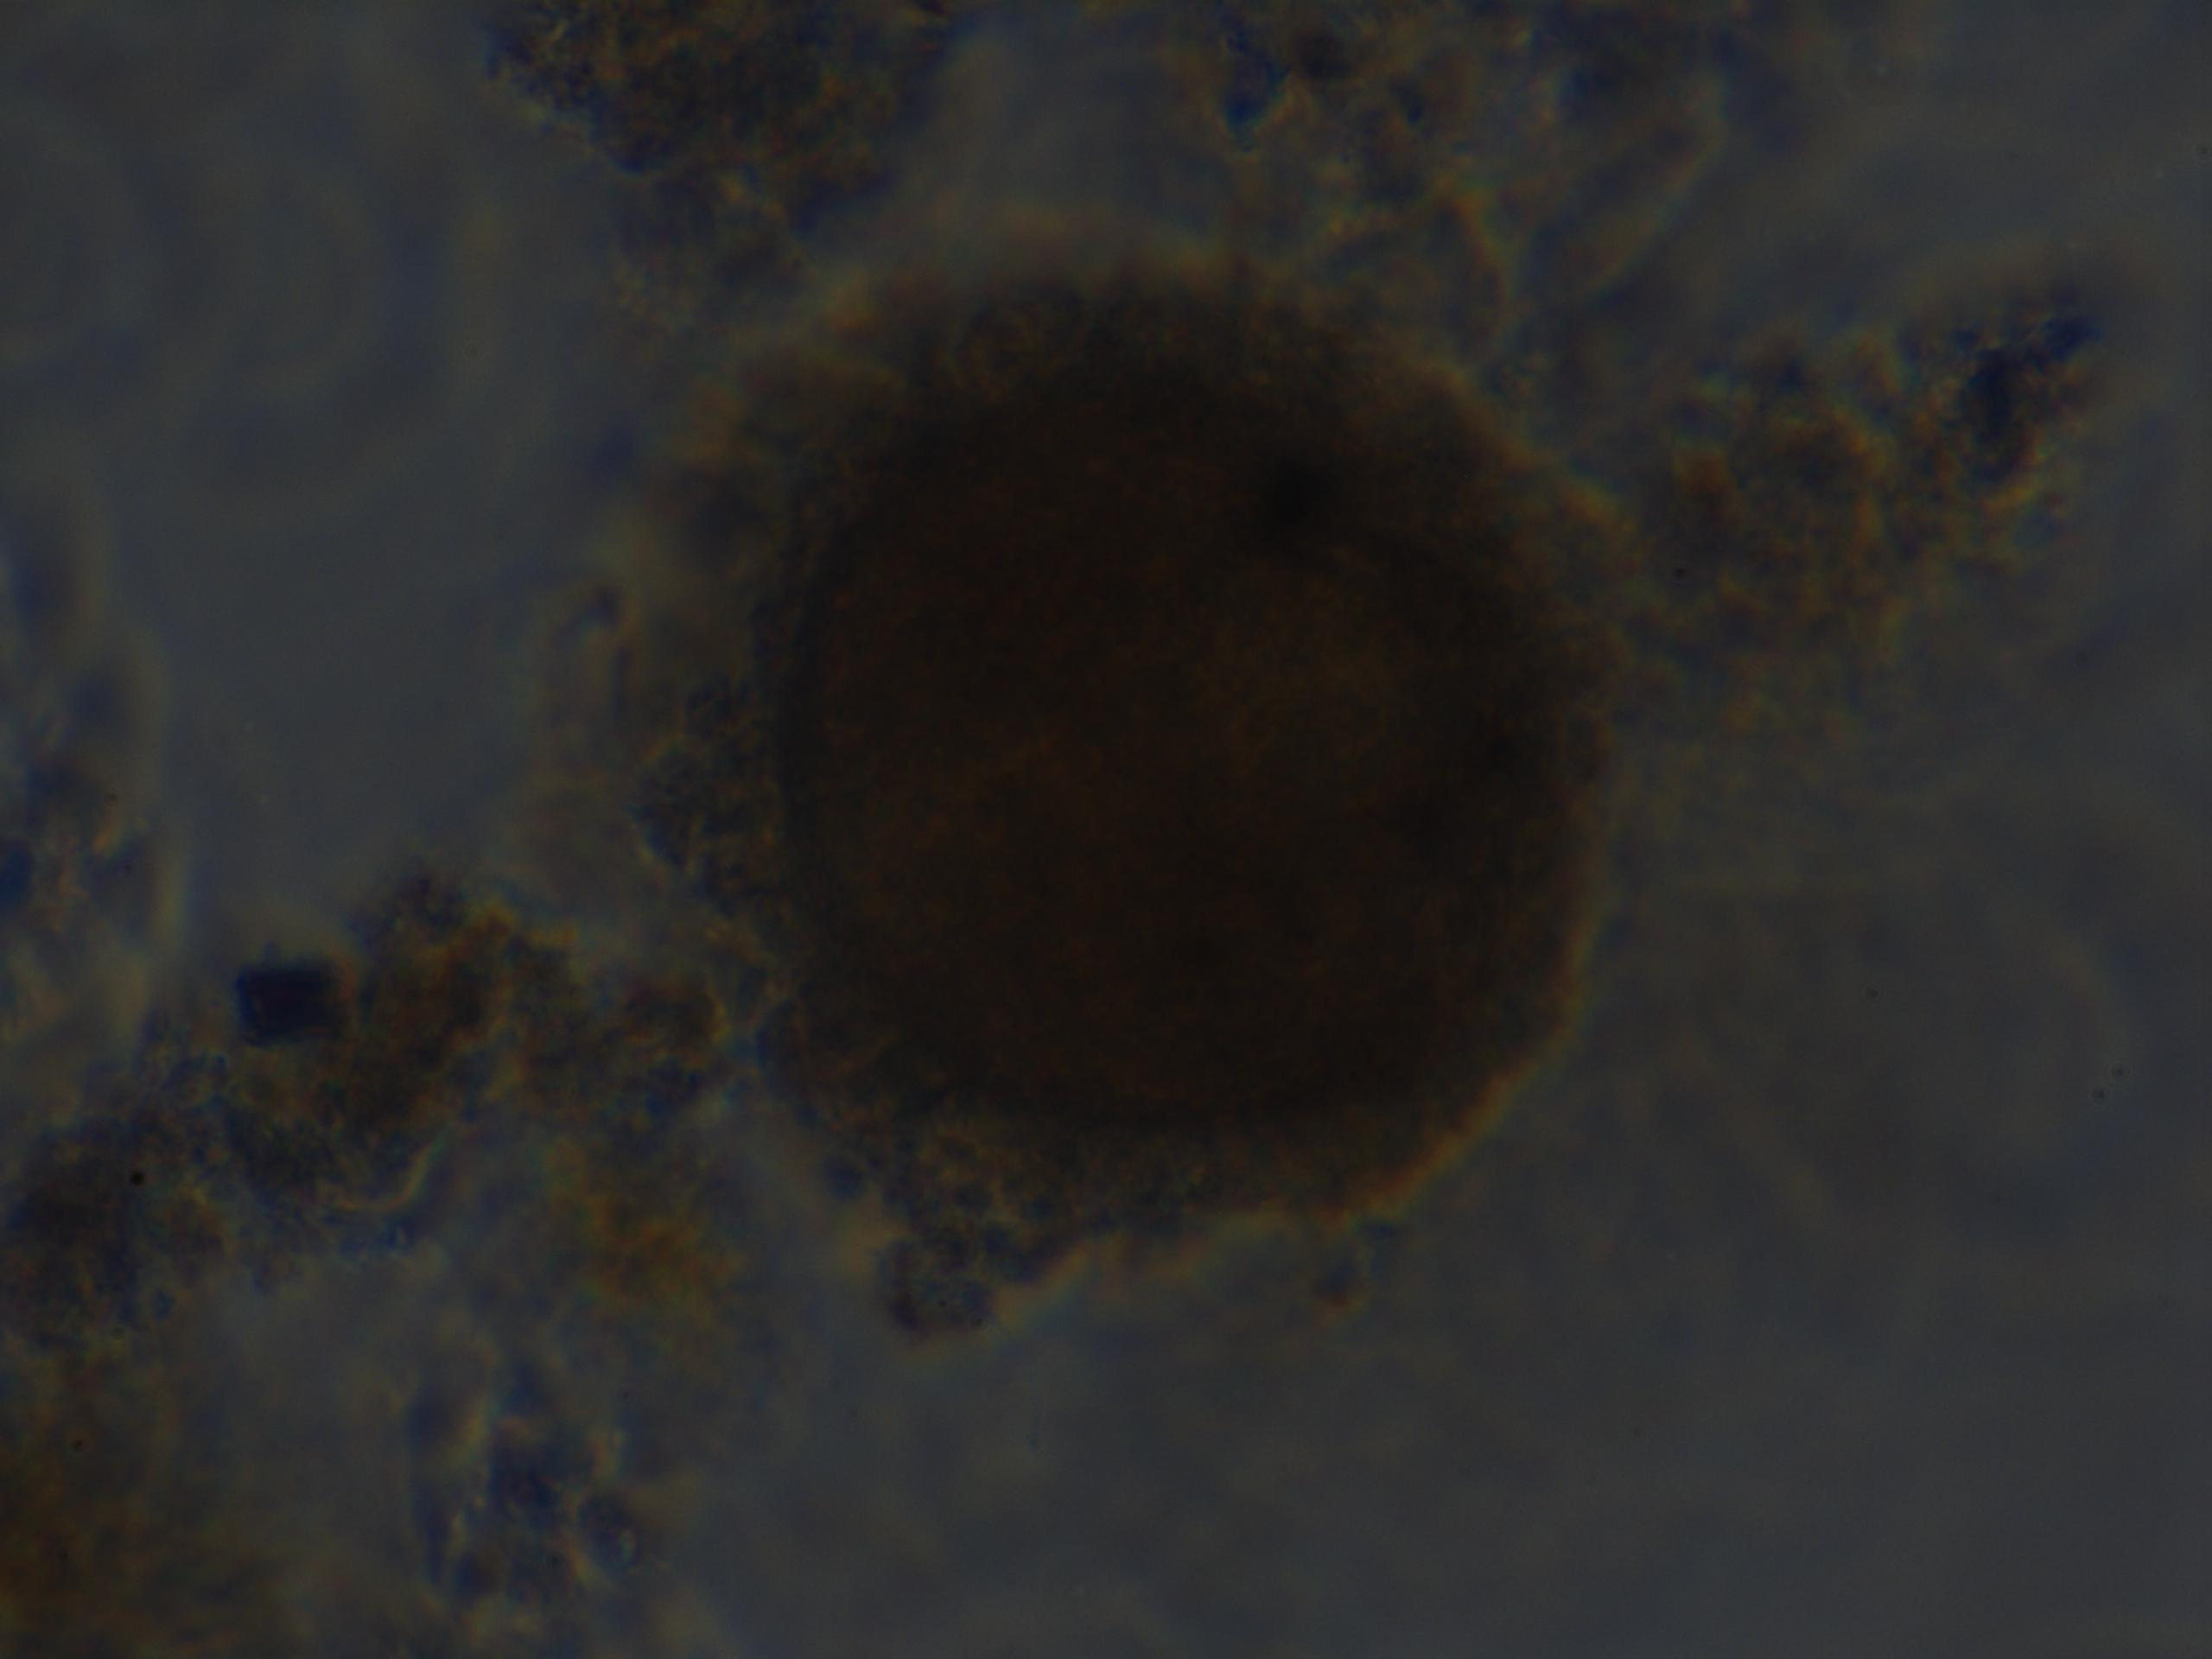spherical_floc: (625, 242, 1637, 1347)
